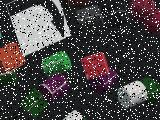Right: (6, 0, 71, 56)
